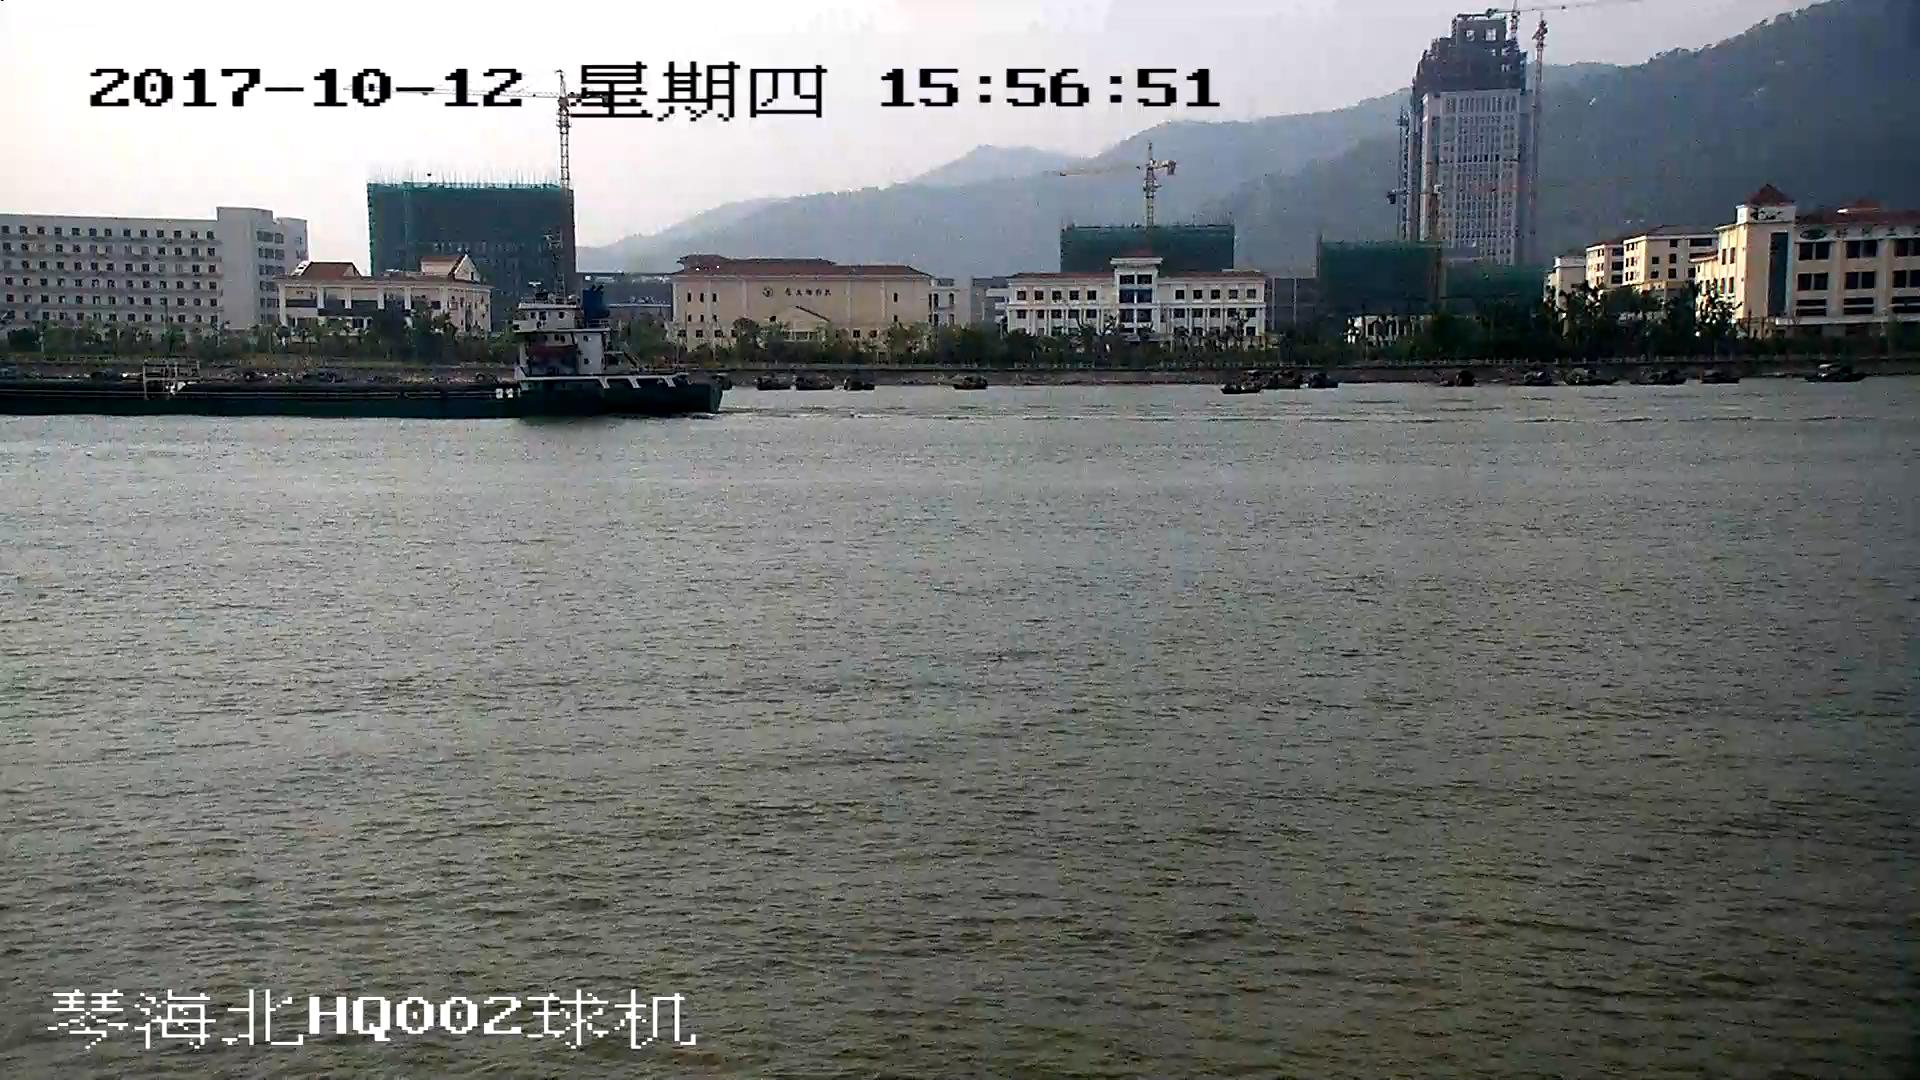general cargo ship: (1, 278, 726, 420)
